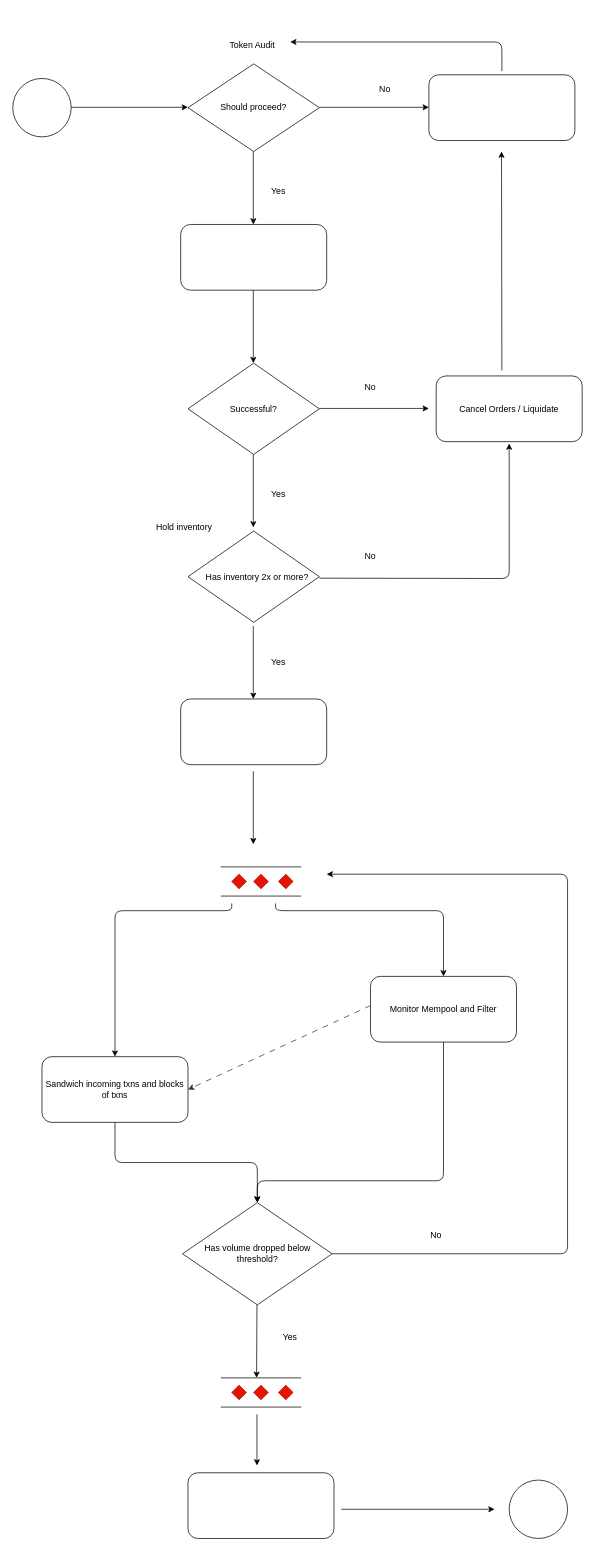
Image size: 595x1551. Some labels were removed from this diagram. The box of each missing label's shape, as (x1, y1, x2, y2) in pixels:
Divest ~ 90% of inventory: (180, 698, 327, 765)
Find new token: (428, 74, 575, 141)
Liquidate Inventory: (187, 1472, 334, 1538)
Snipe: (180, 224, 327, 290)
